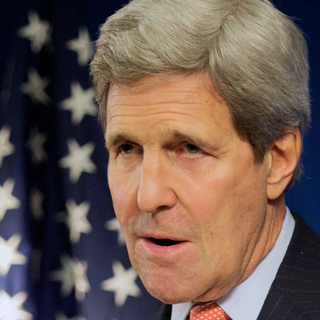eye: (166, 138, 214, 162), (111, 138, 147, 162)
